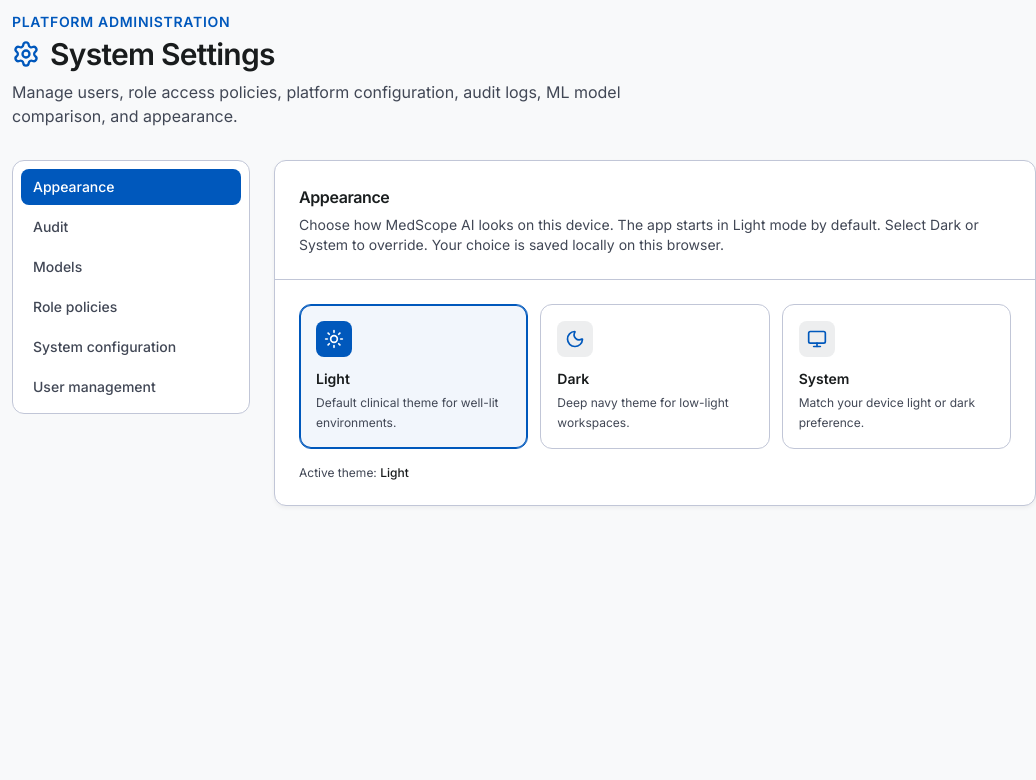
Test: SettingsPage › switches to role policies and system configuration sections
This screenshot has width=1036, height=780.
Click the button "Role policies" at (131, 307), box [21,289,241,325]
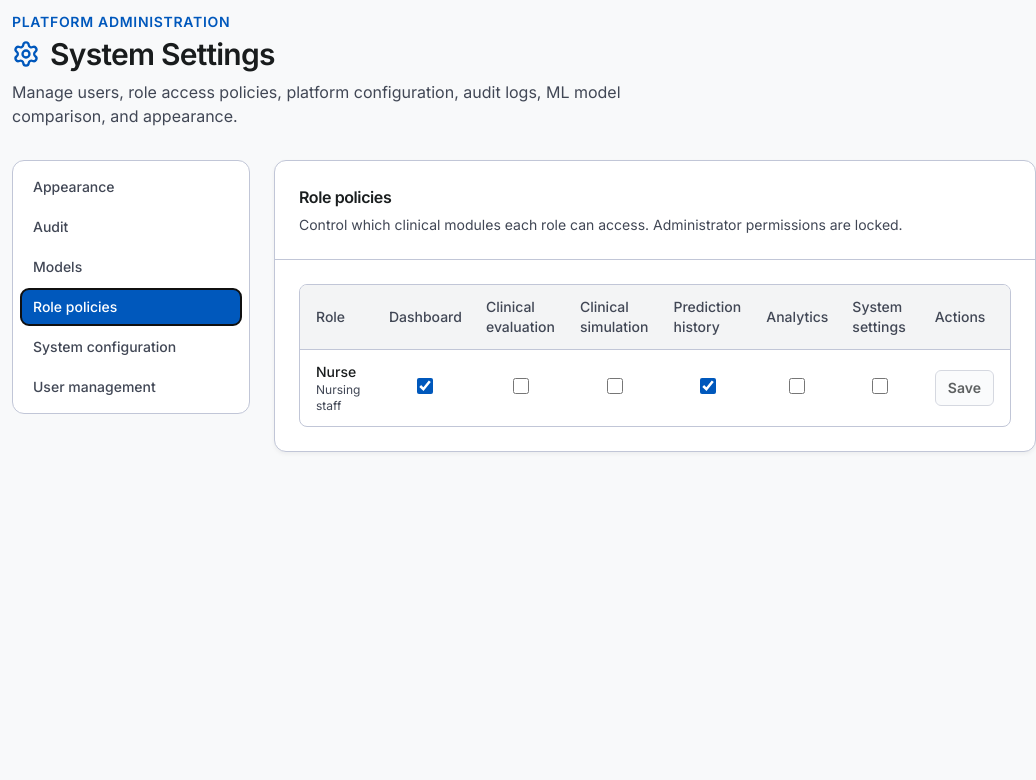
Check: the text "Control which clinical modules" is shown, box [299,216,903,233]
Check: the text "Nurse" is shown, box [316,362,361,382]
Click the button "System configuration" at (131, 347), box [21,329,241,365]
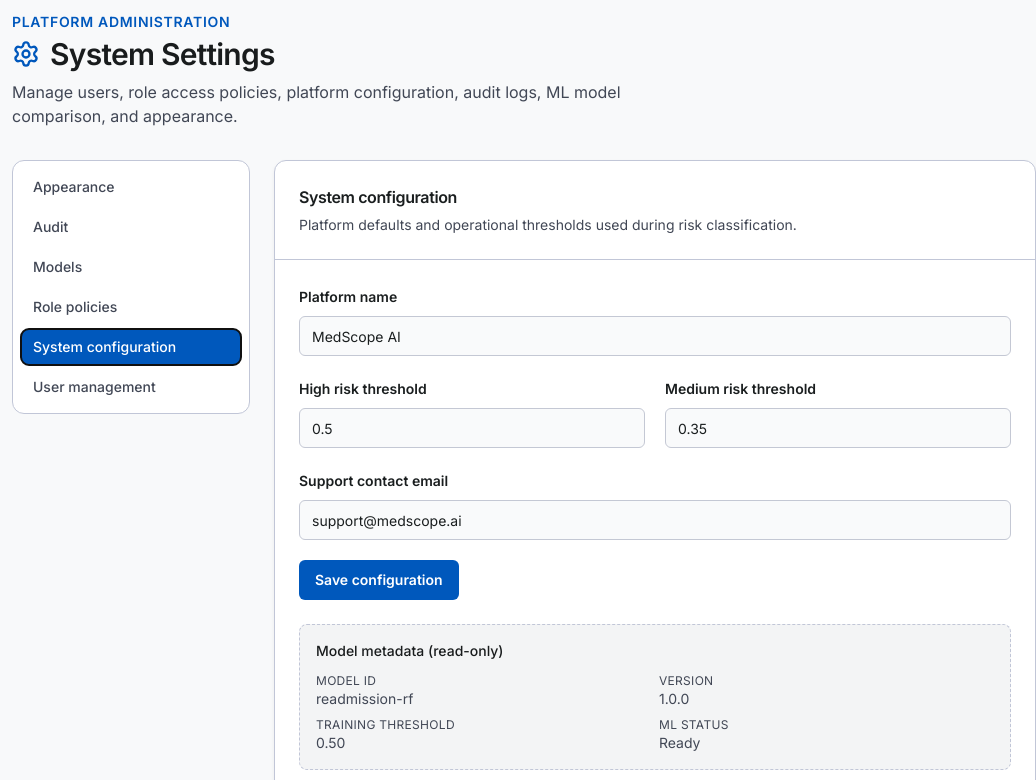
Check: the field labelled "Platform name" holds "MedScope AI", box [299,316,1011,356]
Check: the text "Model metadata (read-only)" is shown, box [316,642,504,659]
